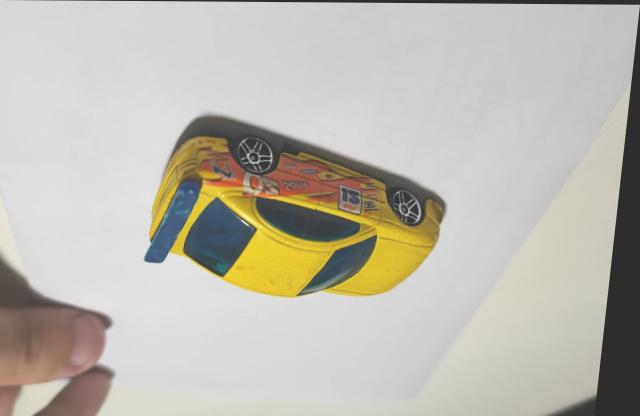02_OZSOME: (149, 131, 450, 297)
